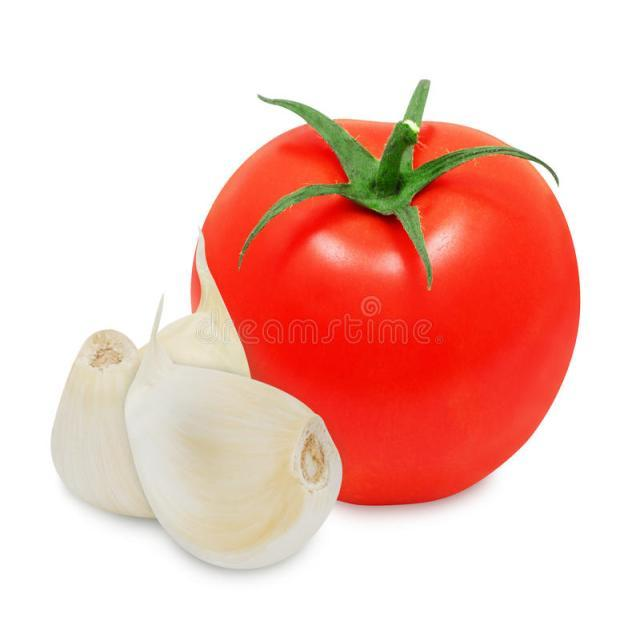kirmizi: (164, 92, 574, 502)
